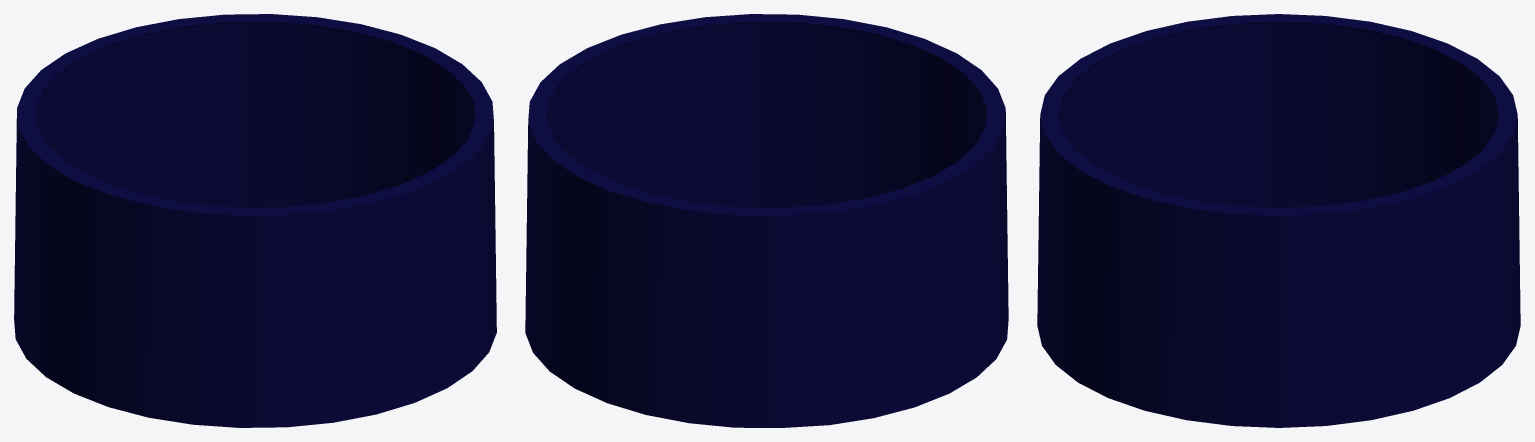
The model's file is BaseDungeon.fbx.
The picture shows the model from 3 angles, left to right: view 1: azimuth 30°, elevation 25°; view 2: azimuth 150°, elevation 25°; view 3: azimuth 270°, elevation 25°; orthographic projection.
Visible parts, largest first — view 1: BaseMAp; view 2: BaseMAp; view 3: BaseMAp.
Part boxes in pixels (box(x1,y1,x2,y2)): BaseMAp: box(14, 14, 496, 427); BaseMAp: box(525, 14, 1008, 427); BaseMAp: box(1037, 14, 1520, 427).
Bounding box in the file's own units: 105 × 105 × 50.78.
